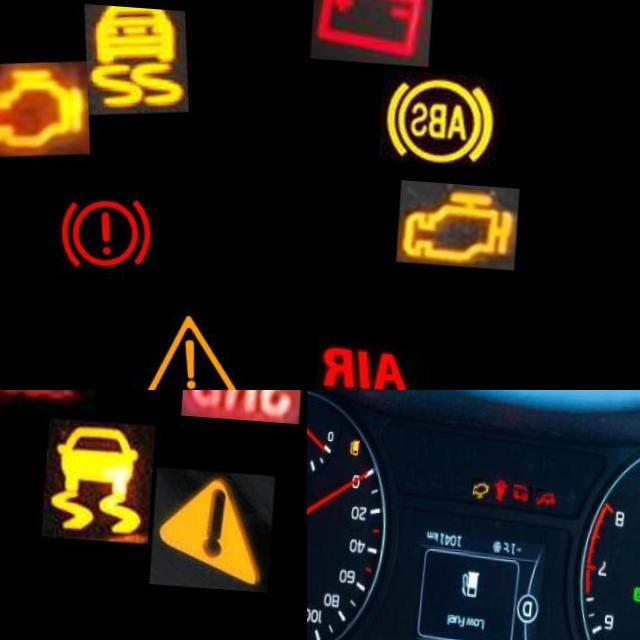Central Warning lamp: (153, 465, 278, 588), (127, 280, 263, 390)
